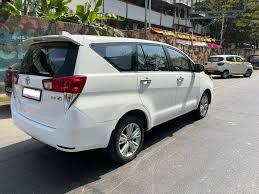non-ambulance: (11, 34, 212, 162), (205, 55, 252, 77), (4, 63, 19, 95), (247, 55, 259, 69)
